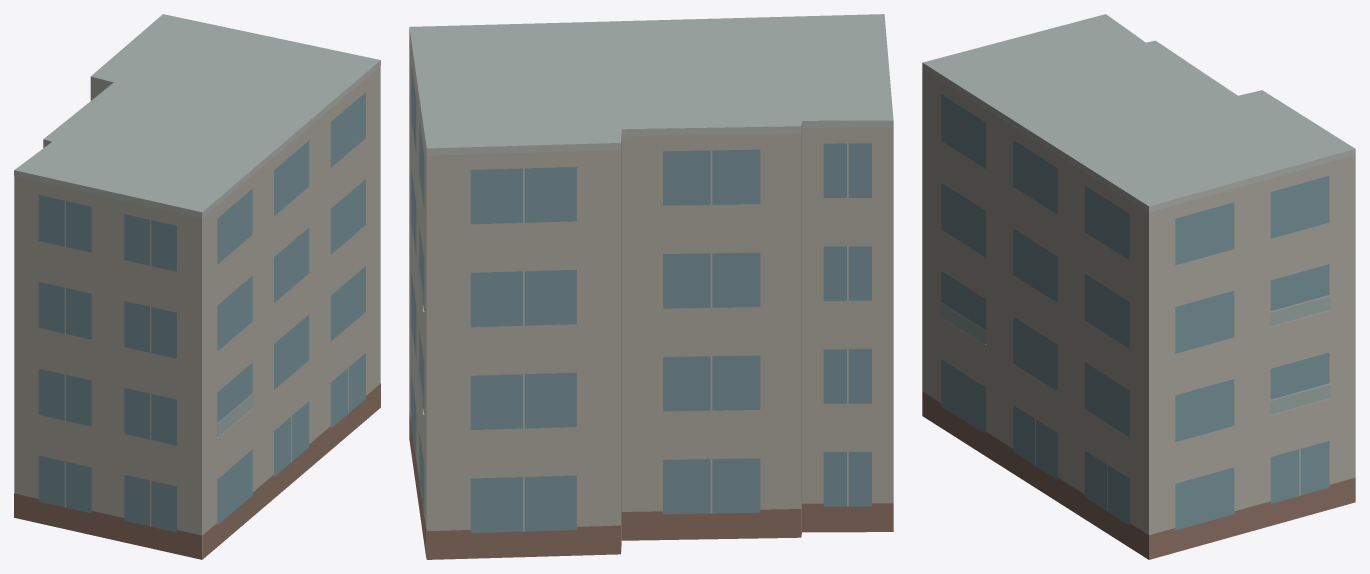
Rendered from survey-upis-32920955.glb.
The picture shows the model from 3 angles, left to right: view 1: azimuth 30°, elevation 25°; view 2: azimuth 150°, elevation 25°; view 3: azimuth 270°, elevation 25°; orthographic projection. The views are drawn at different scales.
Parts seen in each view (by area): view 1: survey-upis-32920955.tmp; view 2: survey-upis-32920955.tmp; view 3: survey-upis-32920955.tmp.
Part boxes in pixels (x1,y1,x2,y2): survey-upis-32920955.tmp: [14, 14, 380, 559]; survey-upis-32920955.tmp: [409, 14, 893, 559]; survey-upis-32920955.tmp: [922, 14, 1355, 559].
Bounding box in the file's own units: 16.33 × 13.98 × 15.54.
